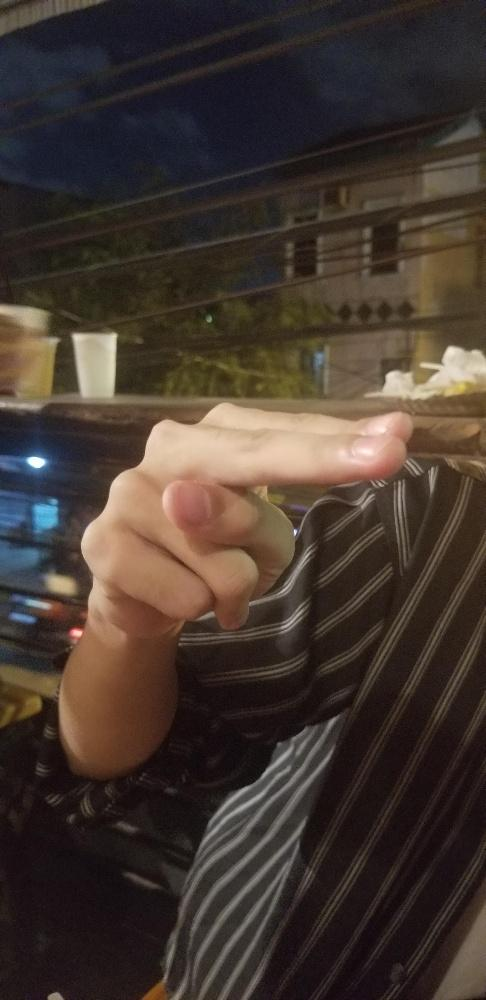n: (78, 399, 413, 634)
